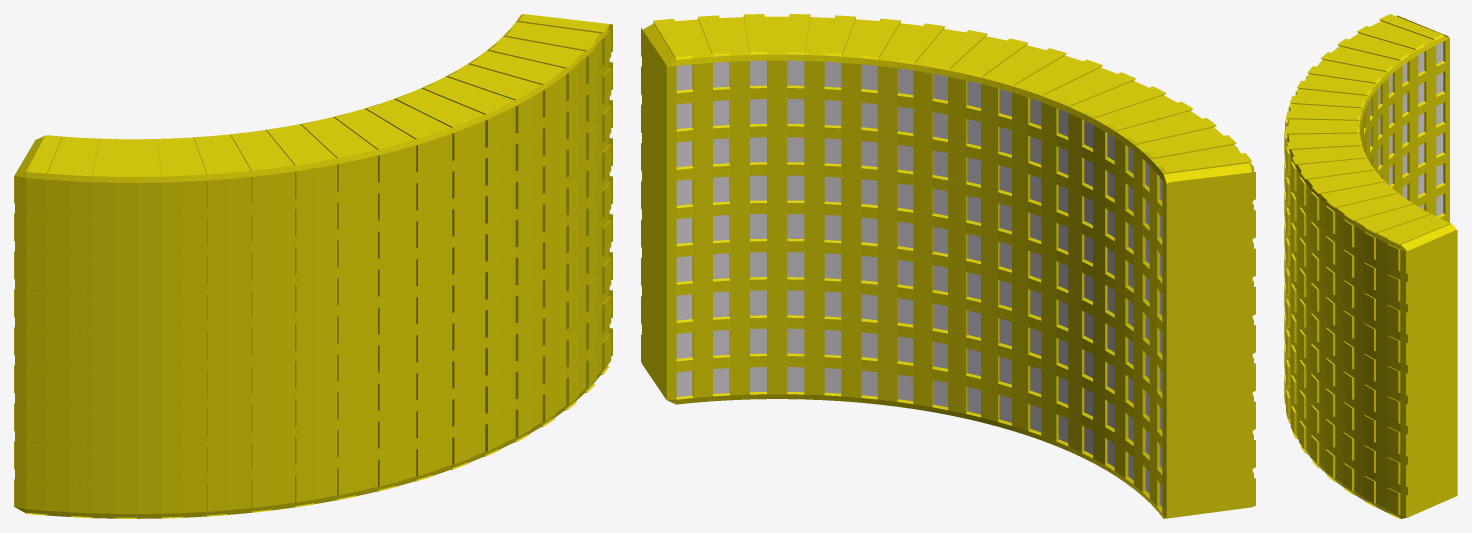
File: Wall.fbx
The picture shows the model from 3 angles, left to right: view 1: azimuth 30°, elevation 25°; view 2: azimuth 150°, elevation 25°; view 3: azimuth 270°, elevation 25°; orthographic projection. The views are drawn at different scales.
Parts seen in each view (by area): view 1: Cube; view 2: Cube; view 3: Cube.
Boxes of the visible parts, bbox=[...] form: Cube: bbox=[14, 14, 612, 518]; Cube: bbox=[641, 14, 1255, 518]; Cube: bbox=[1284, 14, 1457, 518].
Bounding box in the file's own units: 1520 × 825 × 470.
